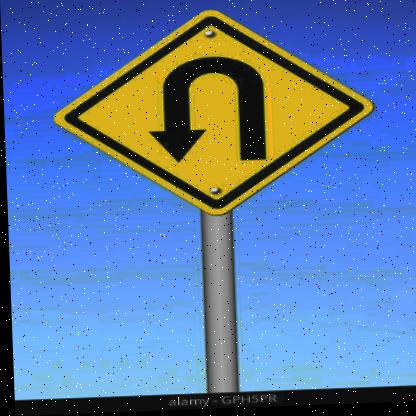U-turn: (53, 8, 381, 222)
